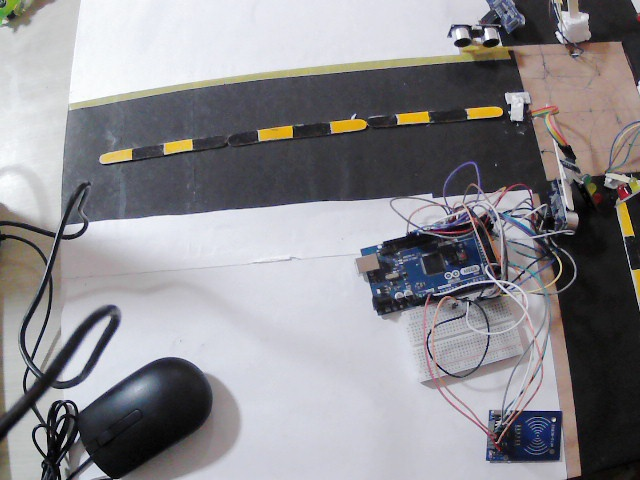black_strip: (622, 234, 640, 266), (293, 124, 333, 138), (366, 114, 397, 129), (429, 108, 467, 120), (193, 136, 230, 147), (226, 133, 261, 144), (134, 146, 165, 158)
mixed_lane: (113, 102, 500, 164), (614, 198, 640, 302)
traffic_light: (577, 172, 605, 205), (615, 174, 640, 201)
uno_breadboard: (355, 208, 510, 317), (400, 287, 528, 382), (483, 403, 563, 465), (449, 21, 506, 53), (544, 179, 577, 233), (481, 0, 528, 35)
yellow_strip: (615, 198, 632, 234), (465, 105, 499, 120), (334, 120, 366, 135), (259, 127, 293, 141), (99, 153, 133, 165), (398, 110, 430, 122), (164, 141, 192, 153), (632, 266, 640, 300)
